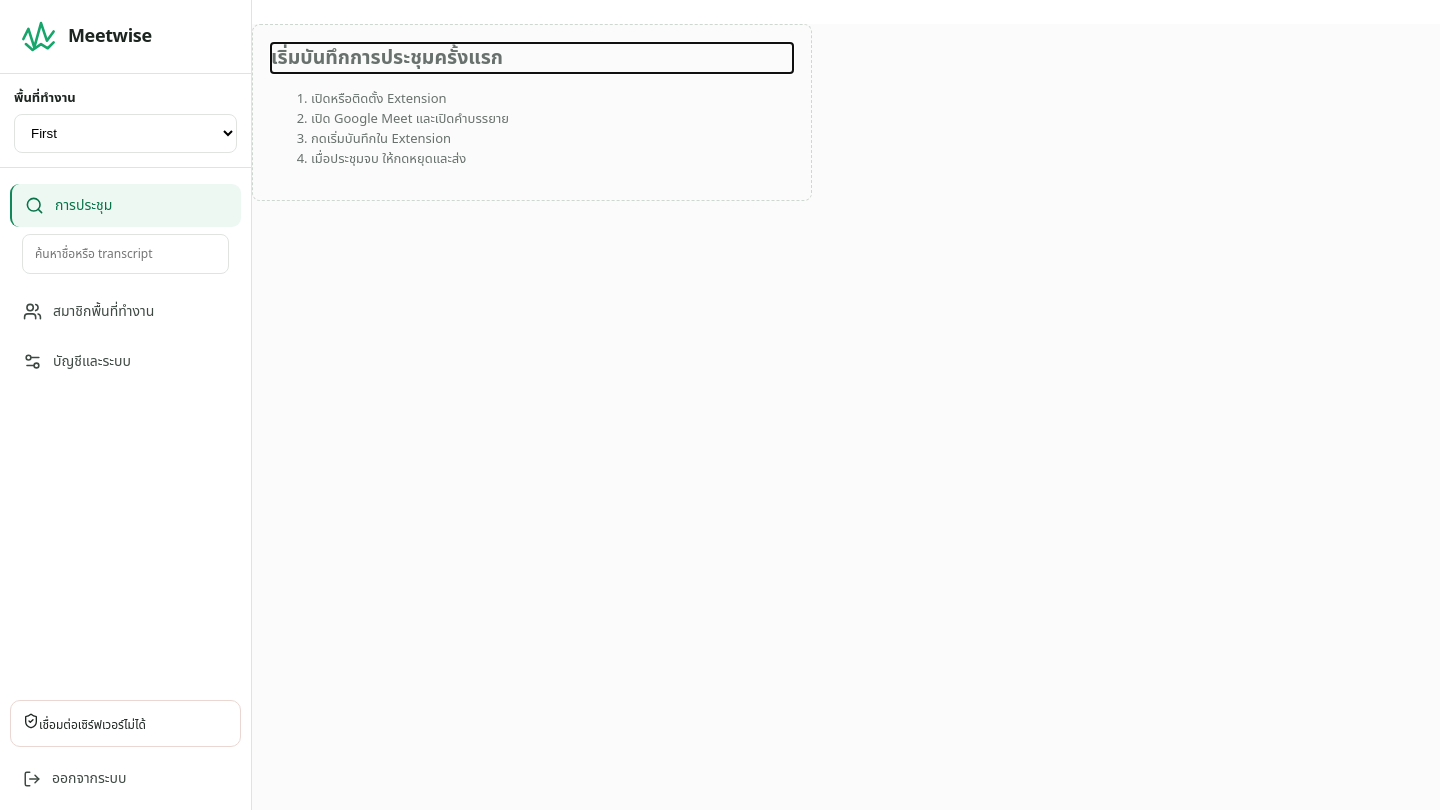
Test: dashboard authentication and role-aware UI › lets a signed-in user create and switch to another workspace
Click the button "บัญชีและระบบ" at coordinates (126, 362), box [10,340,241,383]
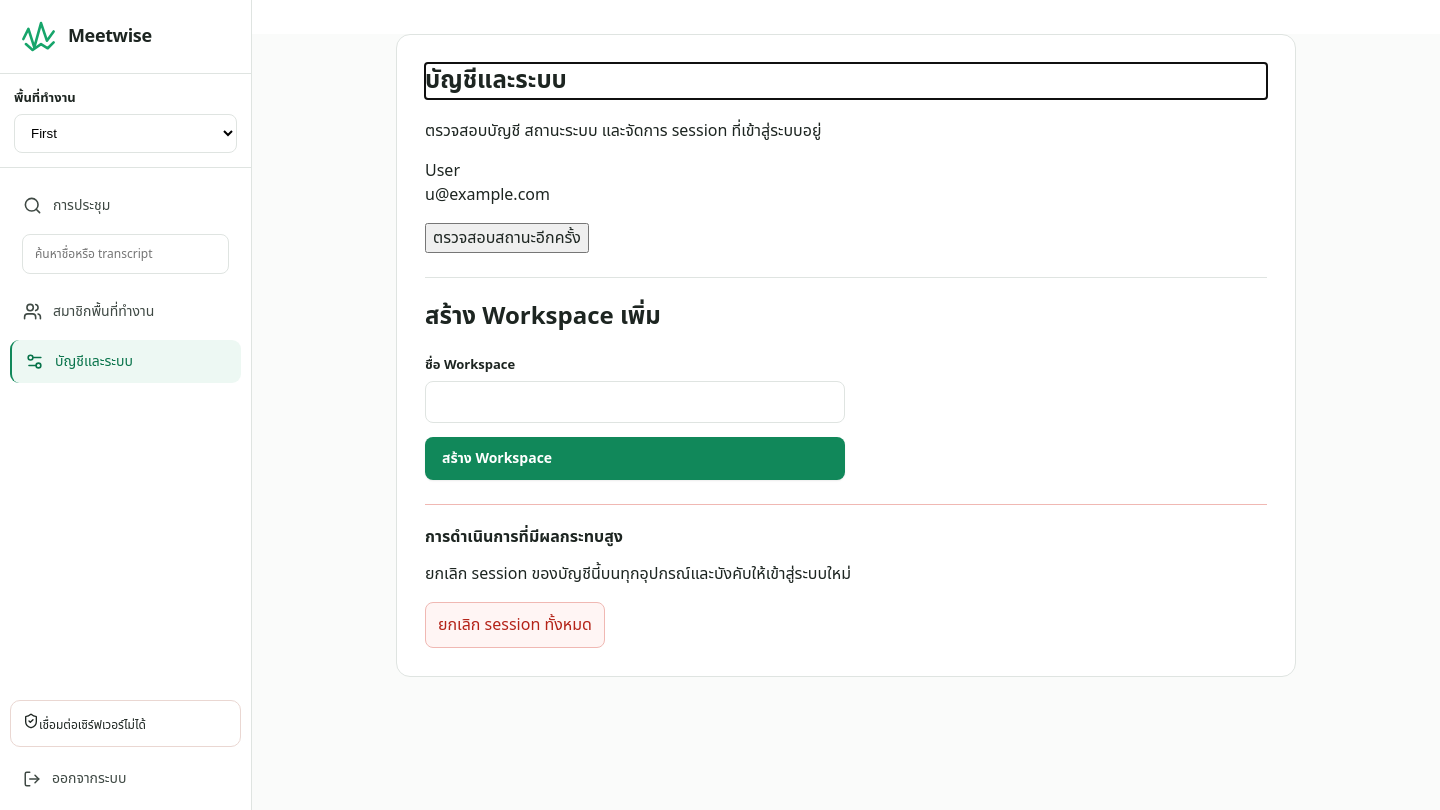
Type "Second" into the field labelled "ชื่อ Workspace" at coordinates (635, 402), box [425,381,845,423]
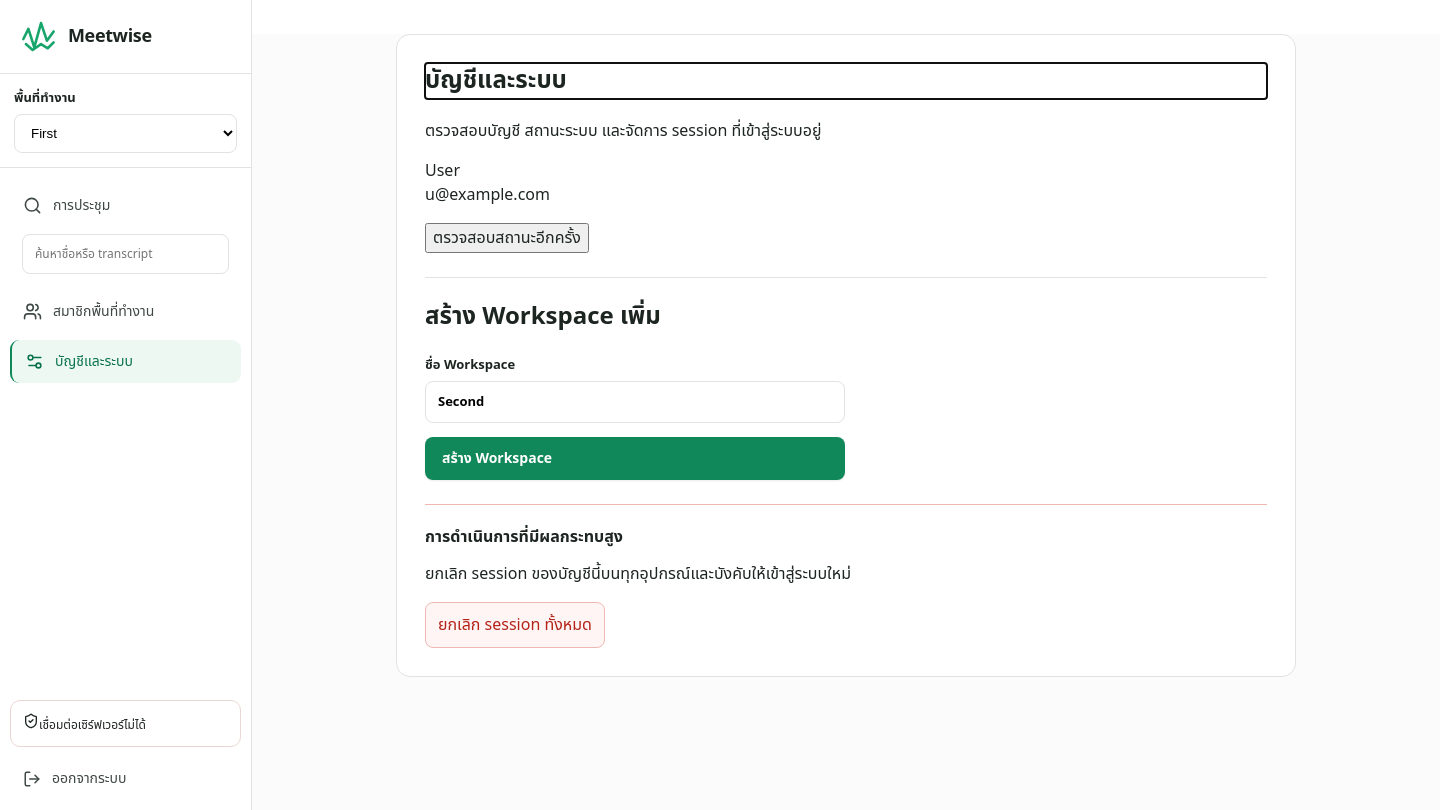
Click the button "สร้าง Workspace" at coordinates (497, 458), box [425,437,845,480]
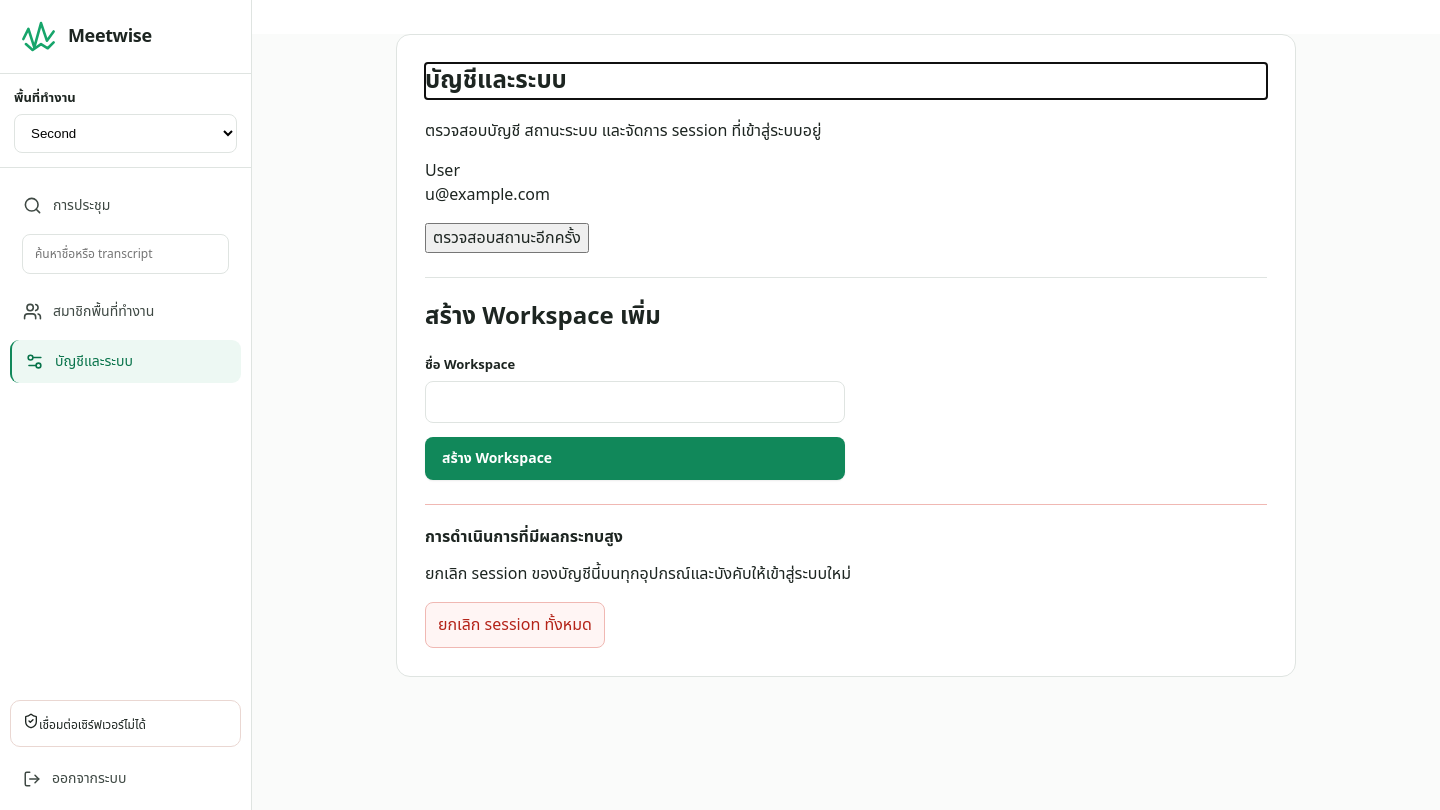
Check: the dropdown labelled "พื้นที่ทำงาน" shows "Second", box [14,114,237,153]
